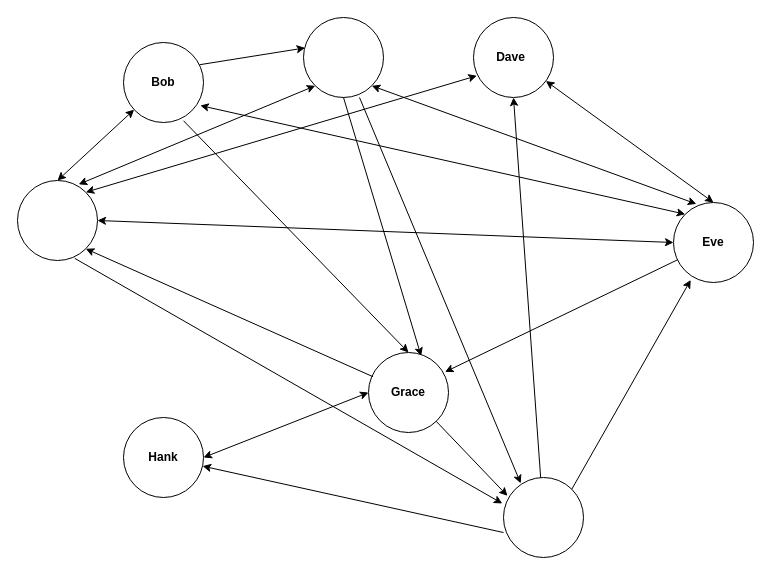
Image size: 771x575. Some labels were removed from this diagram. Here are the shapes that lost their labels. From the top down, the centre of each, then its label:
At point (343, 57): "Charlie".
At point (57, 220): "Alice".
At point (543, 517): "Frank".
